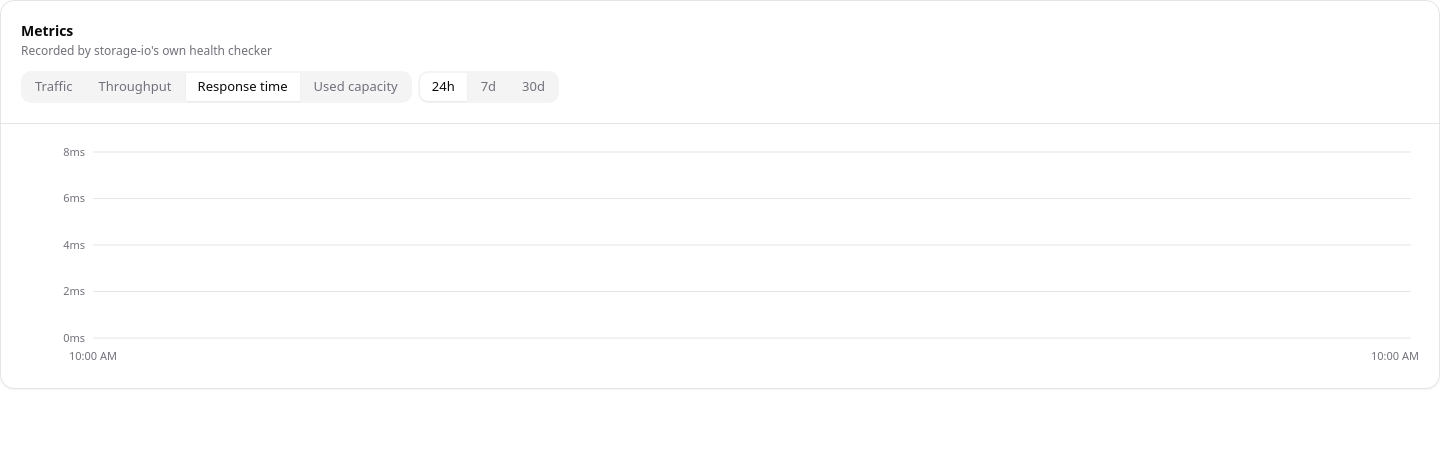
ServerMetricsCard › says traffic is not available for the provider when it is null
Click the radio button labelled "Traffic" at (54,87), box [23, 73, 84, 101]
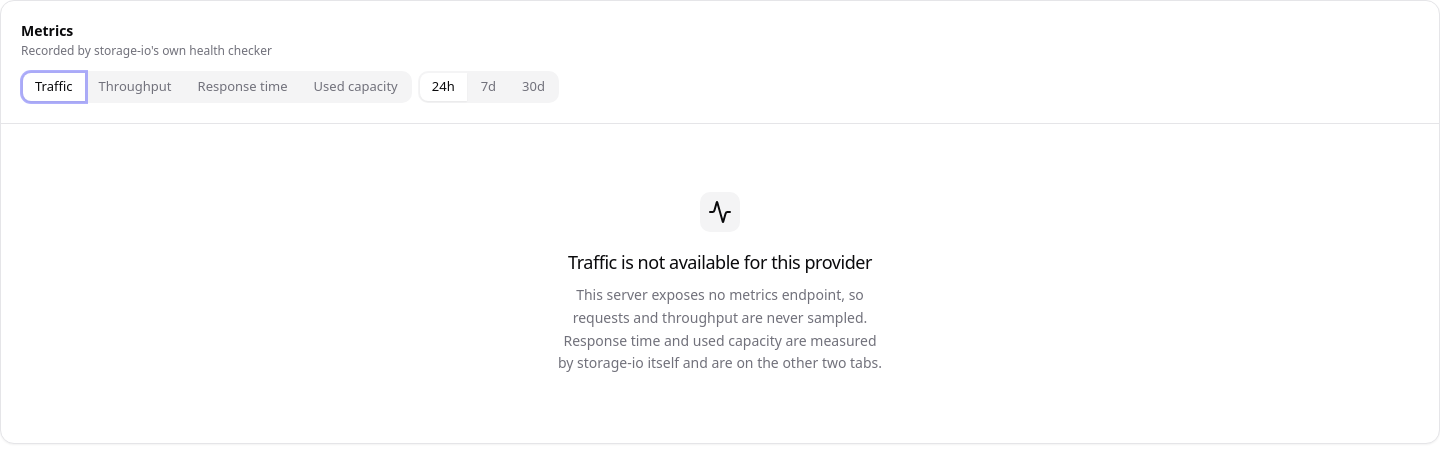
Result: the text "Traffic is not available for this provider" is shown at [568, 248, 872, 276]
